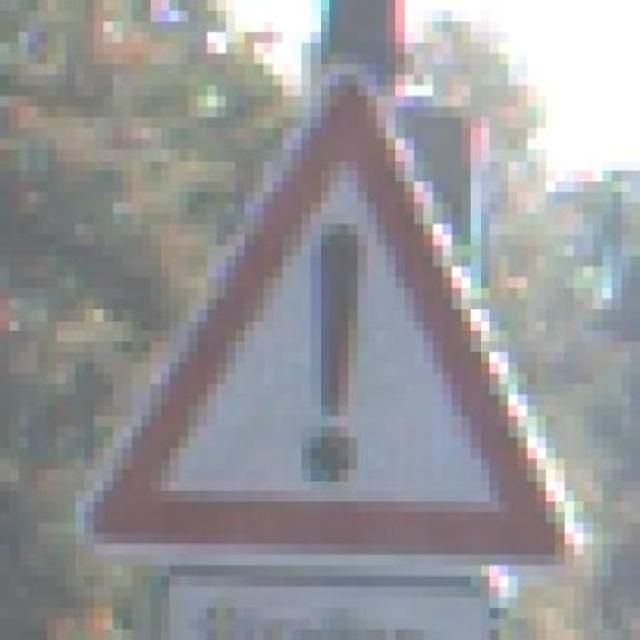Attention Please-: (56, 42, 593, 608)
